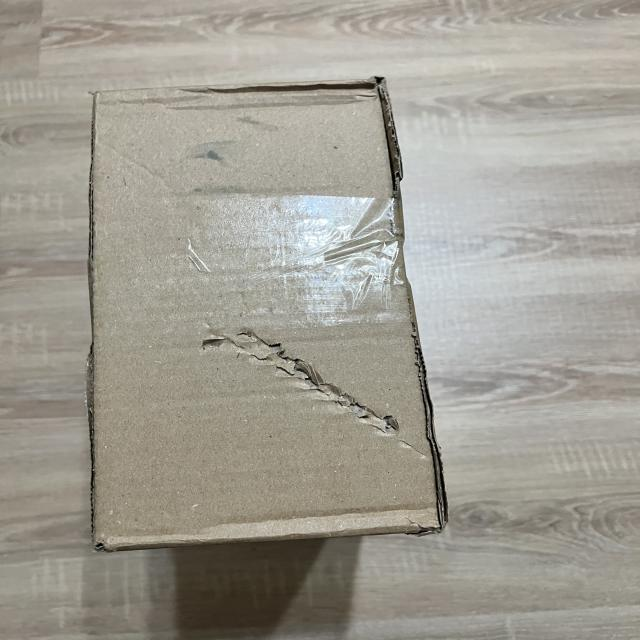damaged: (74, 75, 466, 558), (193, 313, 420, 454), (180, 138, 237, 172)
